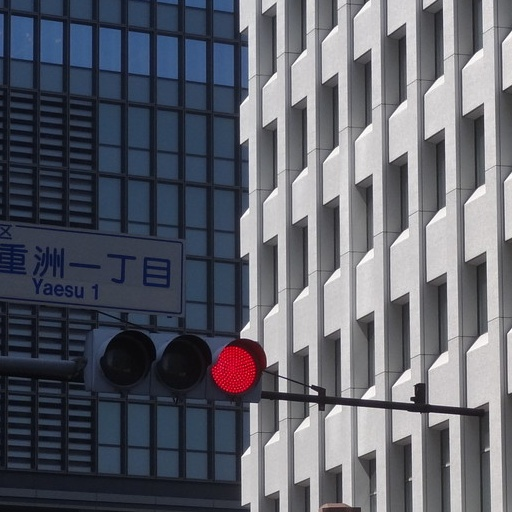Traffic_Signal_Red: (81, 332, 273, 405)
